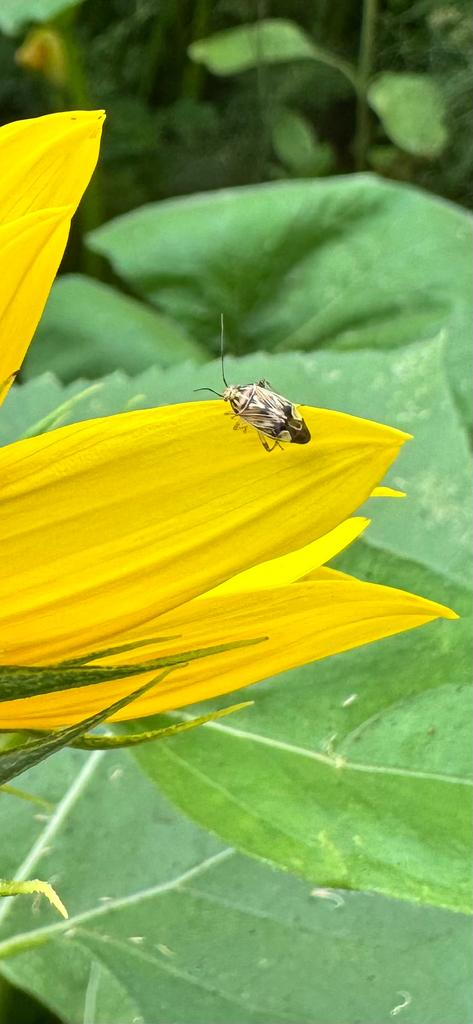plant_bugs: (176, 301, 339, 475)
